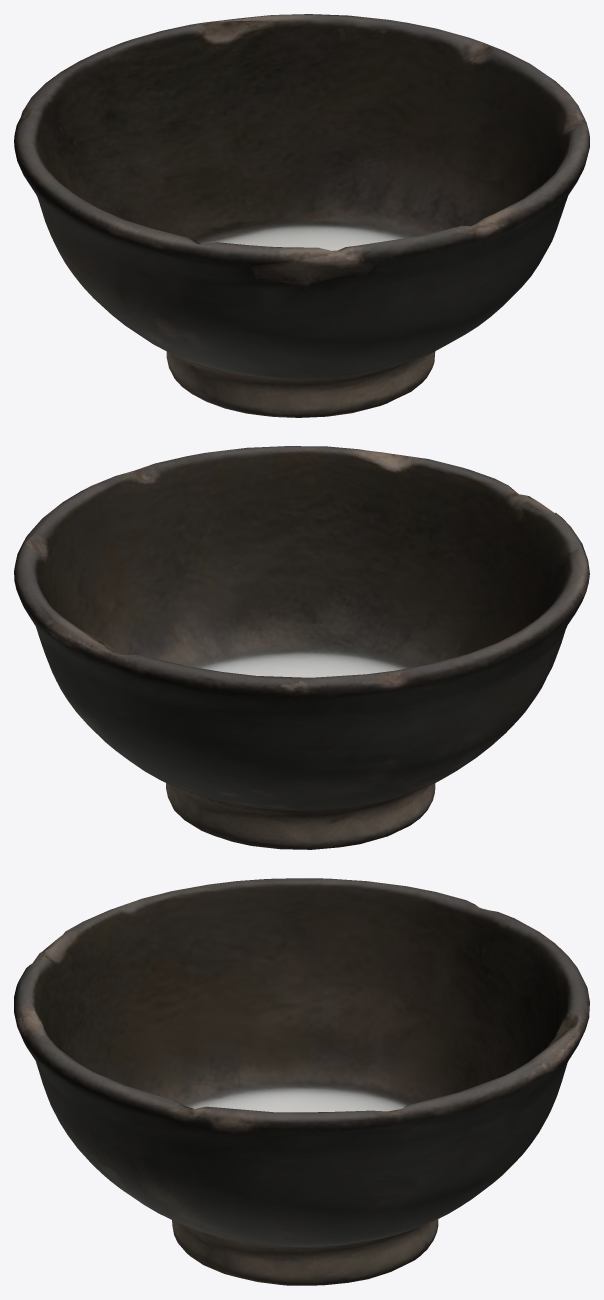
The model's file is cold_cup.glb.
3 renders of one model, top to bottom at view 1: azimuth 30°, elevation 25°; view 2: azimuth 150°, elevation 25°; view 3: azimuth 270°, elevation 25°, orthographic.
Parts seen in each view (by area): view 1: cold_cup; view 2: cold_cup; view 3: cold_cup.
Part boxes in pixels (x1,y1,x2,y2): cold_cup: (14,14,589,417); cold_cup: (14,446,589,849); cold_cup: (14,878,589,1285).
Bounding box in the file's own units: 1.1 × 0.4923 × 1.09.
Materials: 1 (1 with a texture image).
